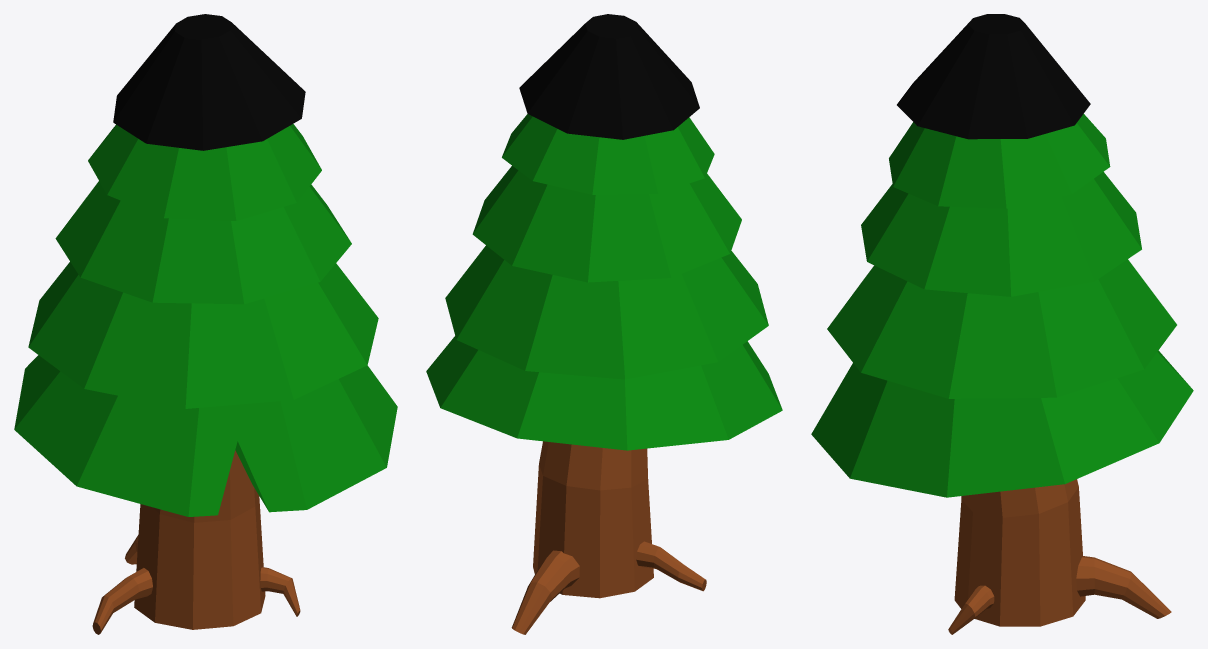
File: low poly tree3 .fbx
3 views of the same model, side by side, from view 1: azimuth 30°, elevation 25°; view 2: azimuth 150°, elevation 25°; view 3: azimuth 270°, elevation 25° (orthographic). The views are drawn at different scales.
Parts seen in each view (by area): view 1: Cylinder.001; view 2: Cylinder.001; view 3: Cylinder.001.
Boxes of the visible parts, box(x1,y1,x2,y2) form: Cylinder.001: box(14, 14, 397, 634); Cylinder.001: box(426, 14, 782, 634); Cylinder.001: box(811, 14, 1193, 634).
Size of the model in its own units: 623 by 1099 by 647.
